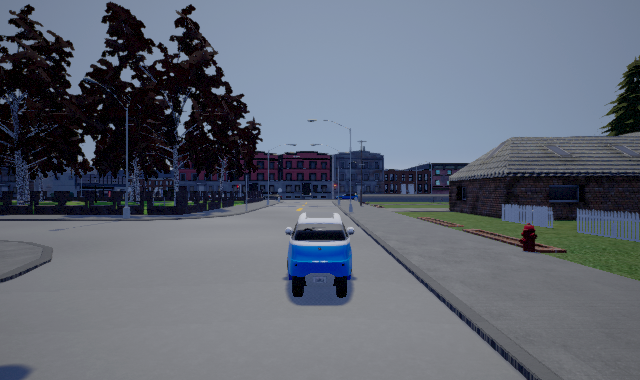traffic_light: (334, 184, 336, 190)
vehicle: (285, 212, 354, 298)
